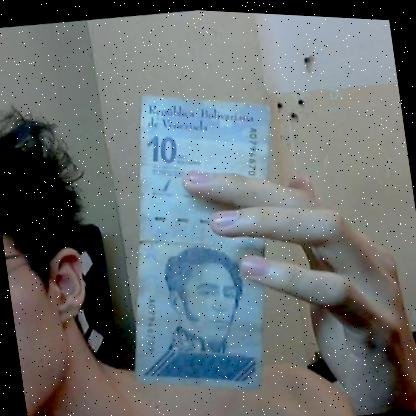ten-front-vef: (96, 76, 308, 407)
